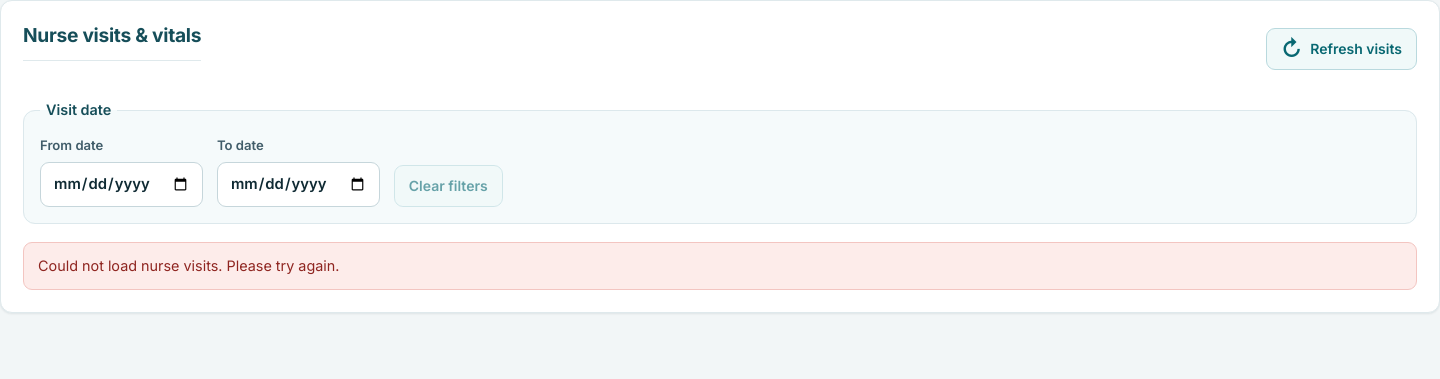
Test case: can retry a failed history request
Expected: the message shows "Could not load", 38,257 -> 340,274
Click the button "↻ Refresh visits" at coordinates (1341, 49), box 1266,28 -> 1417,70
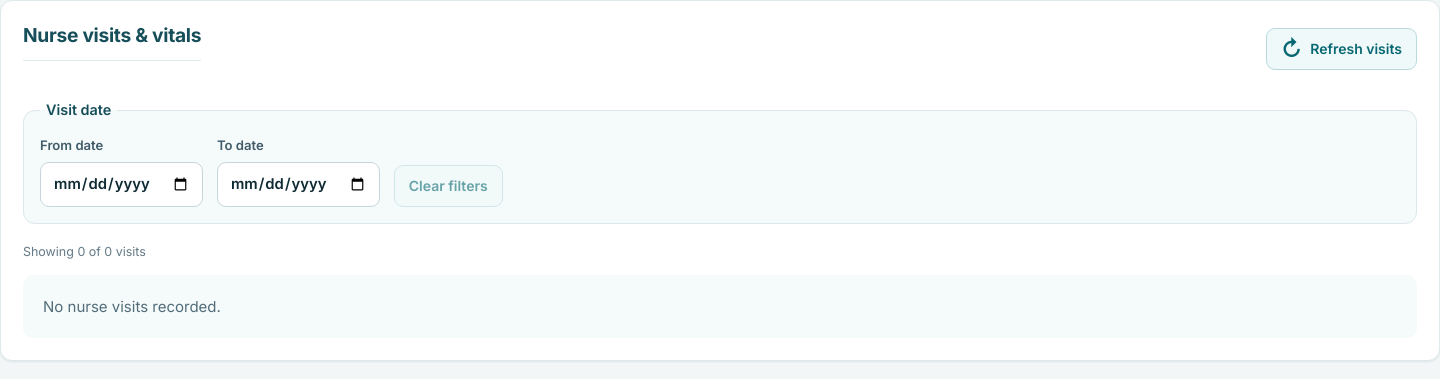
Result: the text "No nurse visits recorded." is shown at 23,275 -> 1417,338
